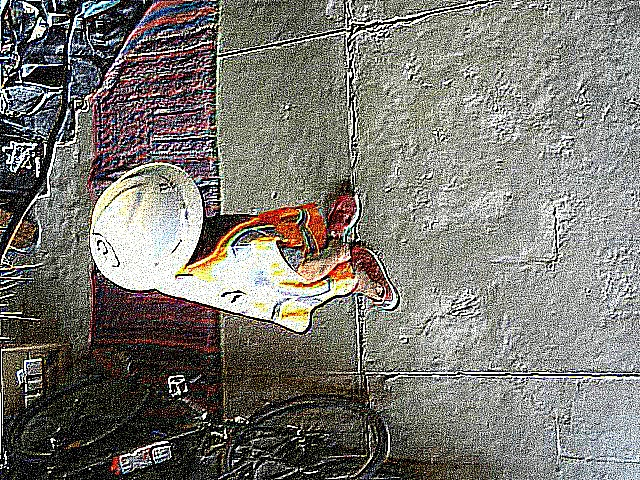eight: (88, 233, 121, 272)
